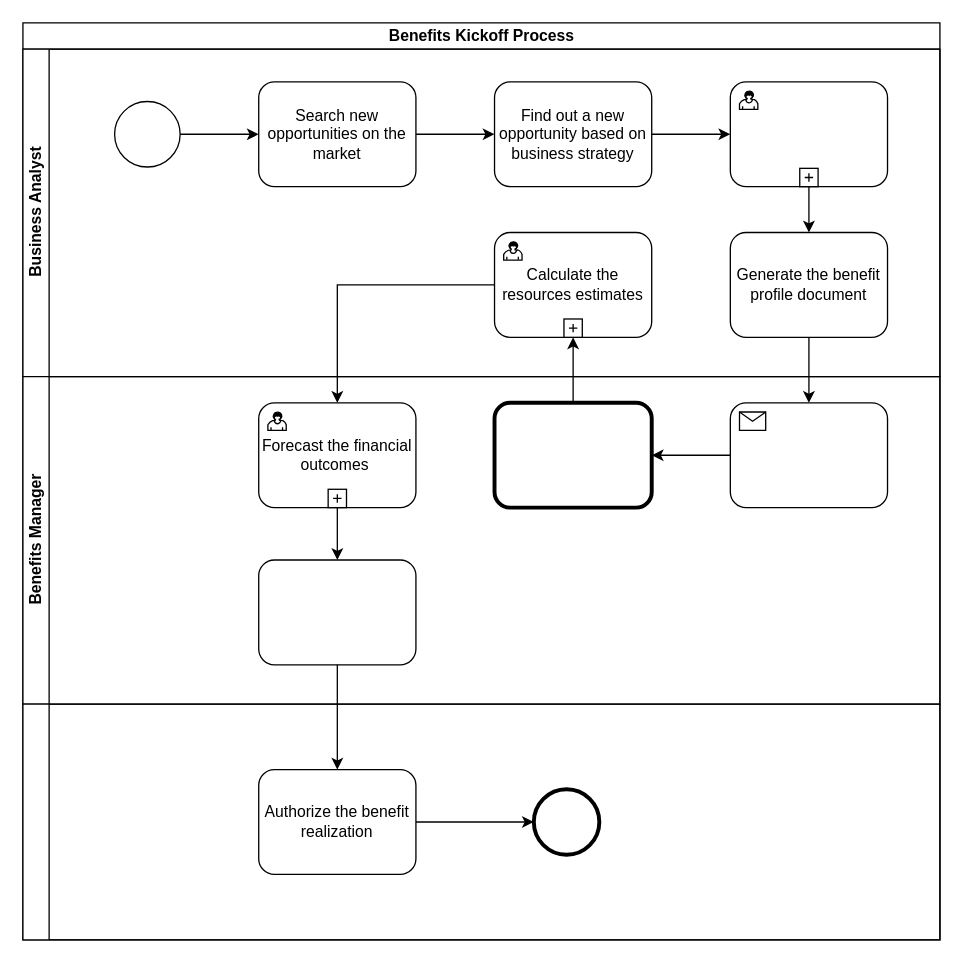
Image size: 963x963. Some labels were removed from this diagram. The box of each missing label's shape, as (x1, y1, x2, y2) in pixels:
Call for a decision meeting: (492, 400, 653, 509)
Portfolio Manager: (22, 703, 940, 940)
Receive the document to be included in benefit register: (729, 402, 888, 508)
Request investment approval: (257, 559, 416, 665)
Run a competitive analysis: (729, 81, 888, 187)
